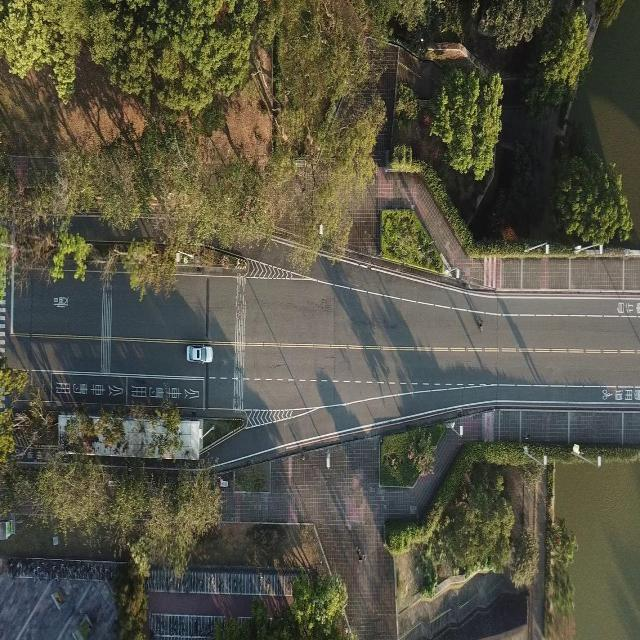car: (186, 341, 213, 364)
